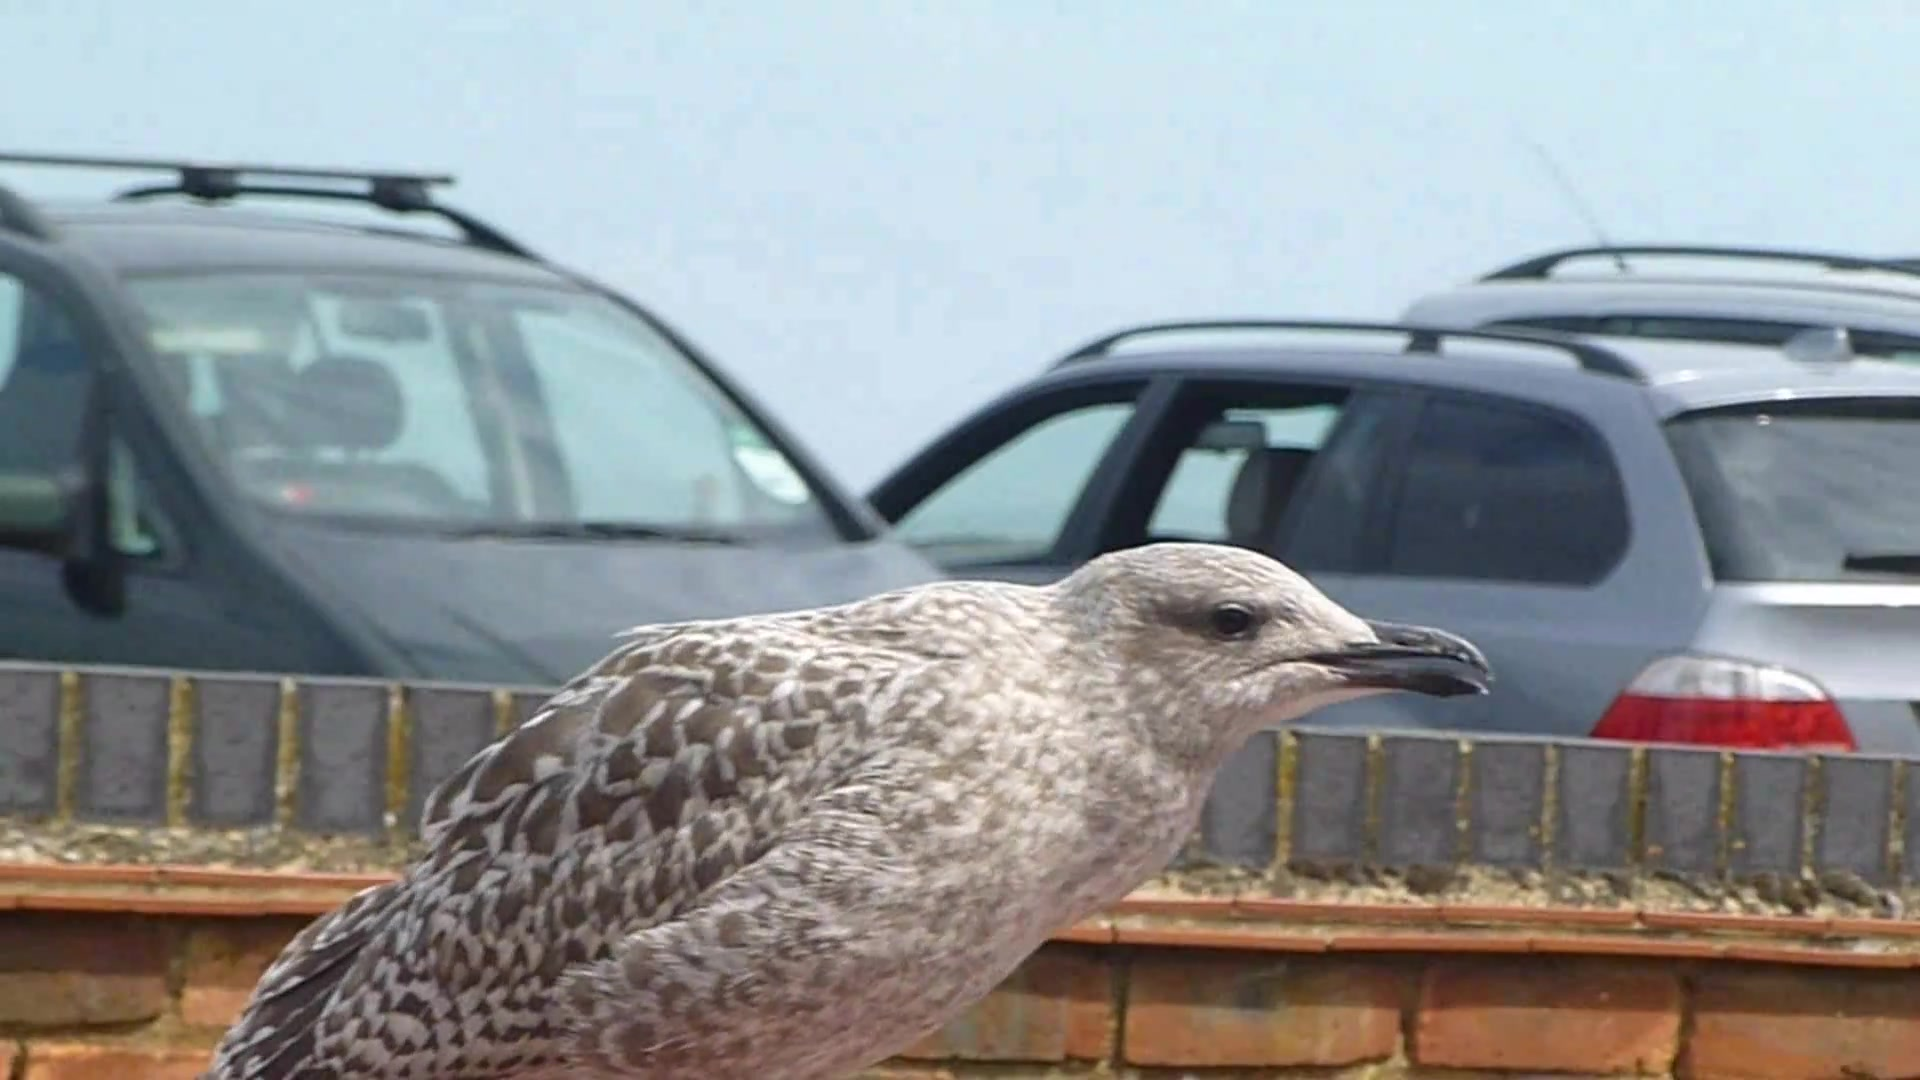bird: (212, 541, 1498, 1080)
